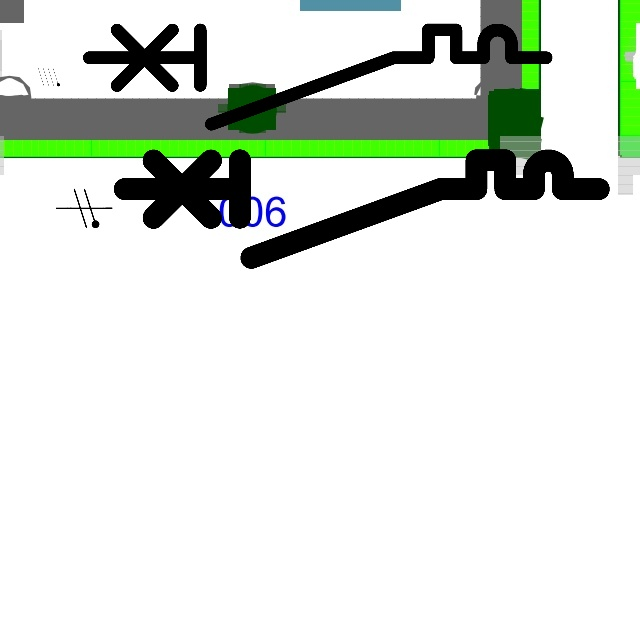interruptor_termomagnetico: (112, 148, 611, 270), (77, 18, 558, 135)
